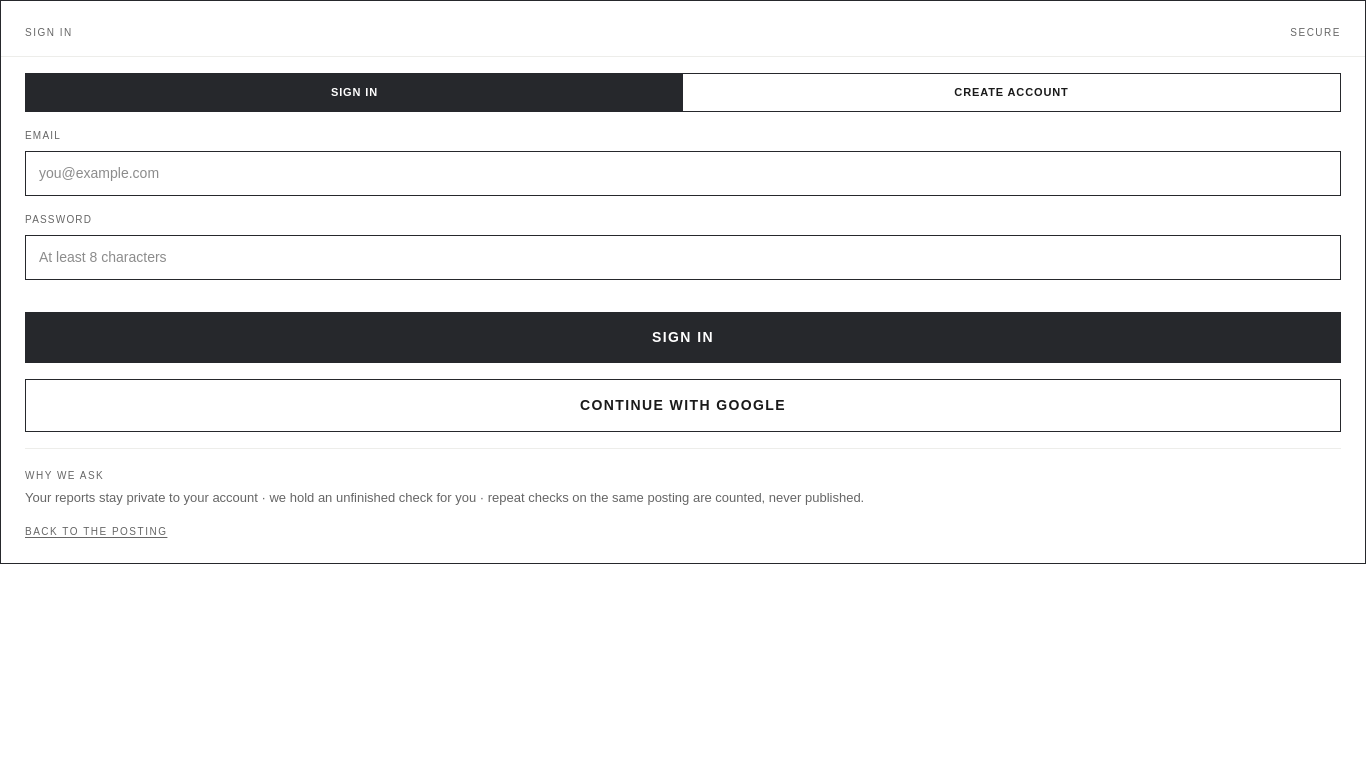
Test case: a11y: dynamic status panels announce themselves › AuthForm's validation panel carries role=alert
Type "a@b.com" into the field labelled "Email" at coordinates (683, 173), box [25,150,1341,196]
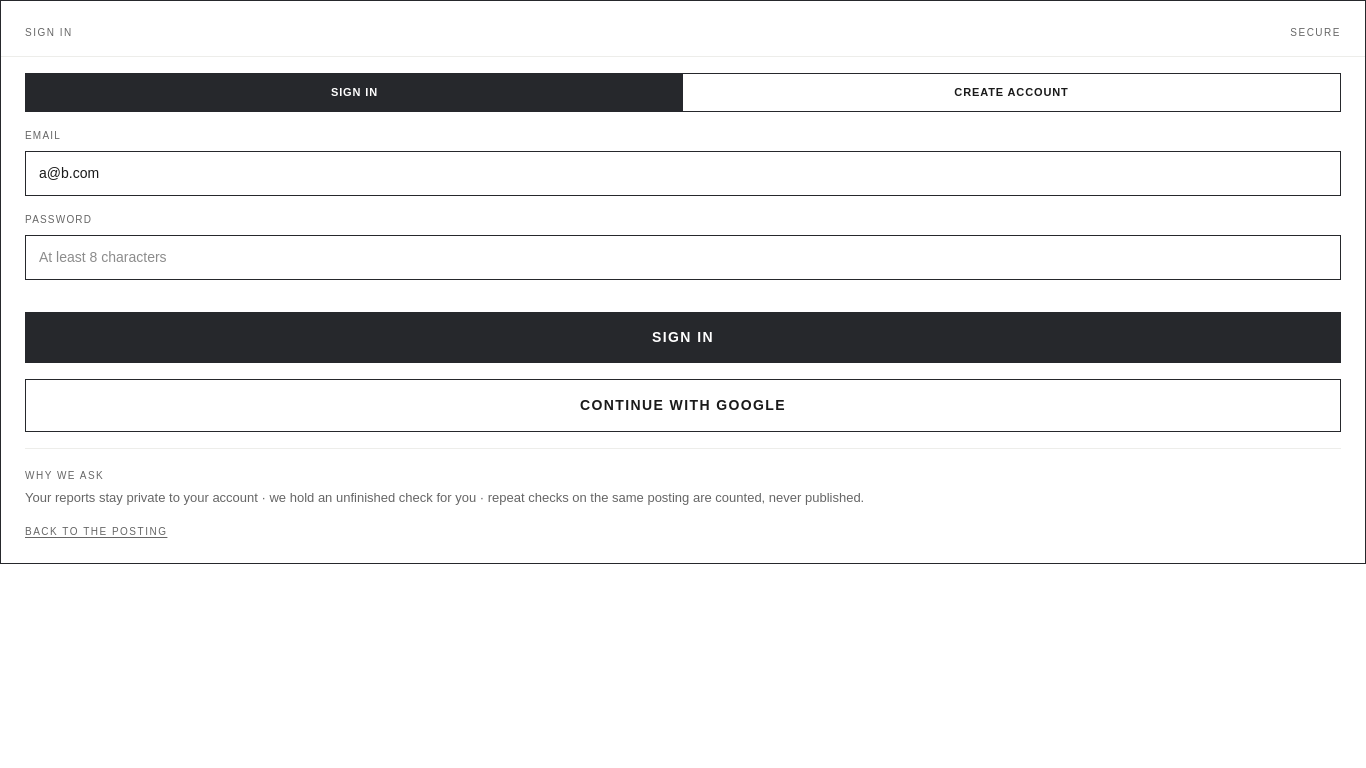
Type "short" into the password field labelled "Password" at coordinates (683, 257), box [25,234,1341,280]
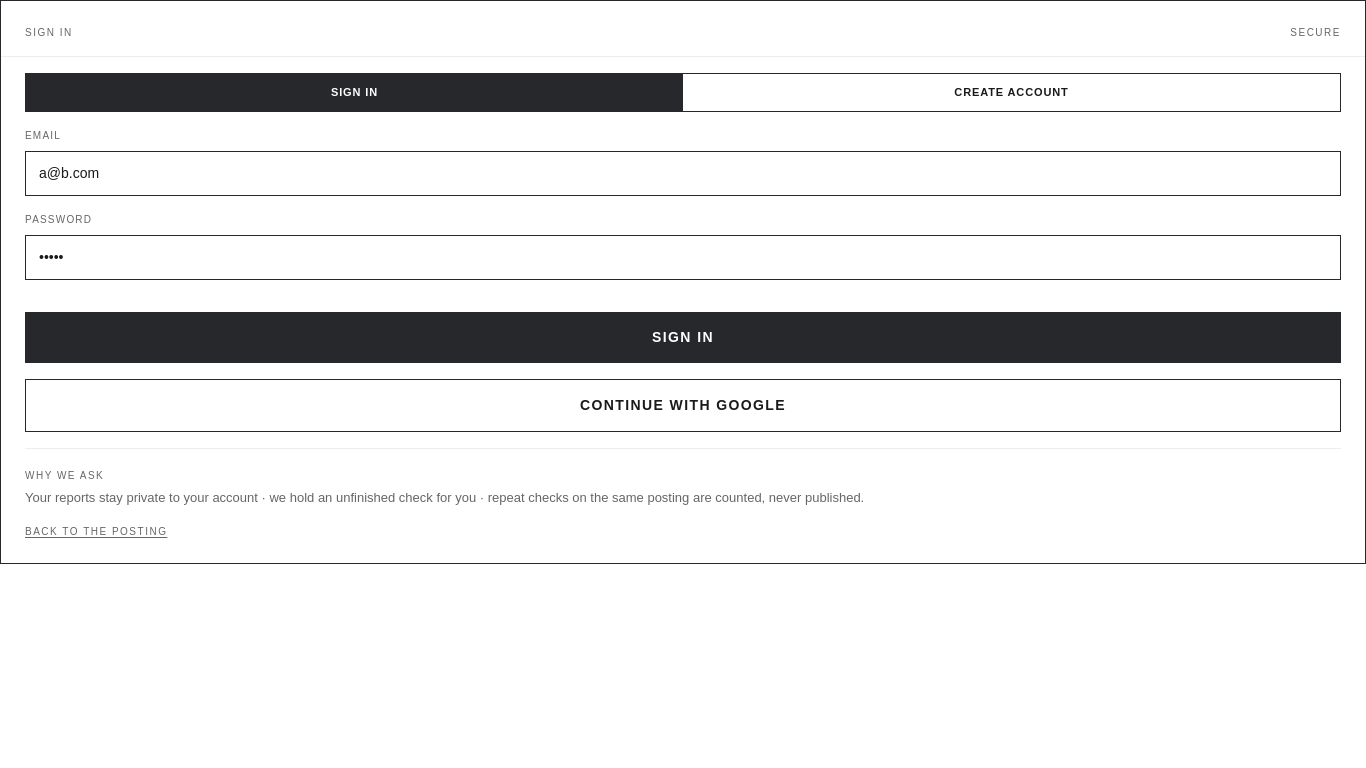
Note: No FlowProvider mounted → nothing queued → the plain "SIGN IN" CTA.
Click the button "SIGN IN" at coordinates (683, 337), box [25,312,1341,362]
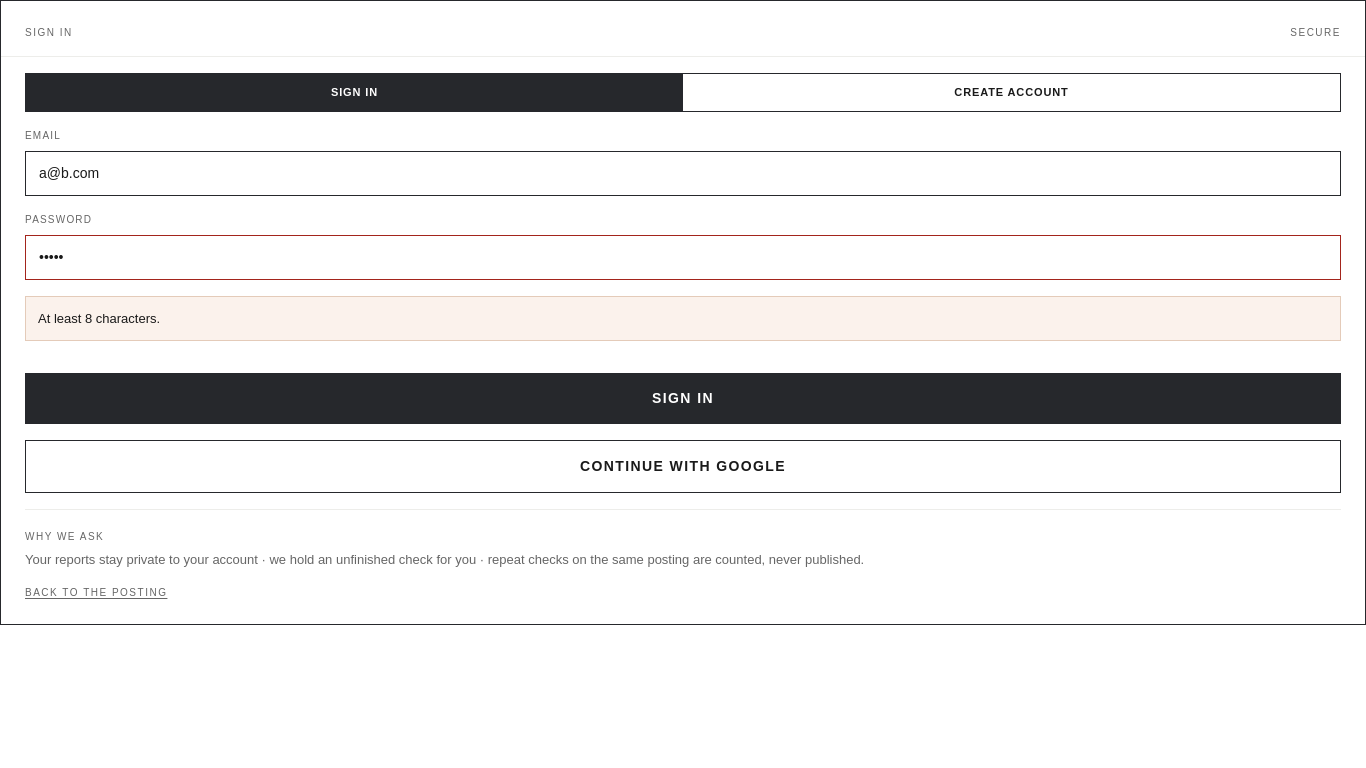
Expected: the message shows "At least 8 characters", [38,310,160,326]
